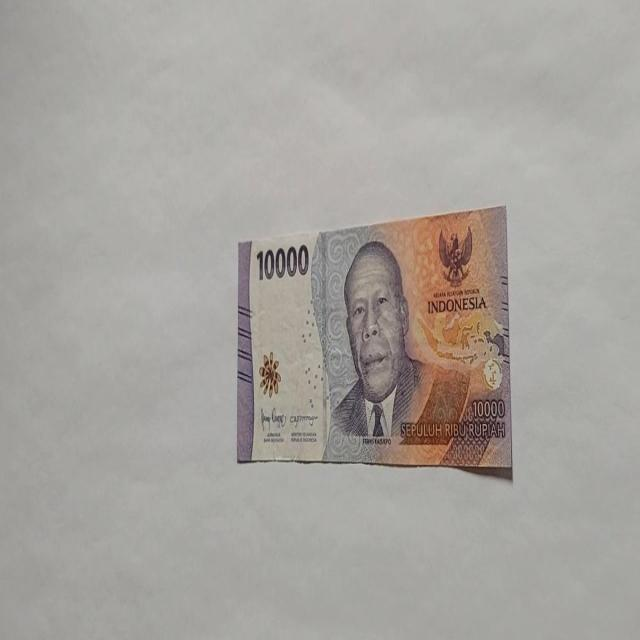Kertas: (236, 204, 512, 476), (255, 242, 309, 282)
